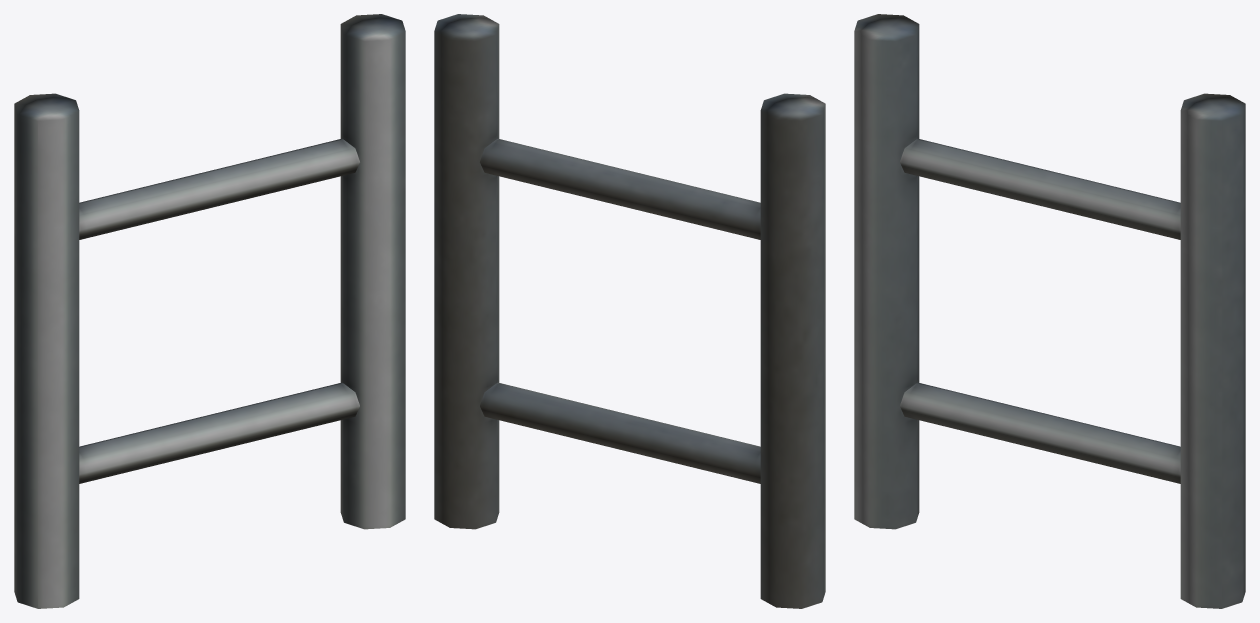
Rendered from LadderIron01.fbx.
3 renders of one model, left to right at view 1: azimuth 30°, elevation 25°; view 2: azimuth 150°, elevation 25°; view 3: azimuth 330°, elevation 25°, orthographic.
Visible parts, largest first — view 1: polySurface5, polySurface1, polySurface3, polySurface6; view 2: polySurface5, polySurface1, polySurface3, polySurface6; view 3: polySurface1, polySurface5, polySurface3, polySurface6.
Part boxes in pixels (x1,y1,x2,y2): polySurface5: (14, 93, 79, 608); polySurface1: (340, 14, 405, 529); polySurface3: (79, 138, 359, 239); polySurface6: (79, 382, 359, 483); polySurface5: (760, 93, 825, 608); polySurface1: (434, 14, 499, 529); polySurface3: (480, 138, 760, 239); polySurface6: (480, 382, 760, 483); polySurface1: (1180, 93, 1245, 608); polySurface5: (854, 14, 919, 529); polySurface3: (900, 138, 1180, 239); polySurface6: (900, 382, 1180, 483).
Bounding box in the file's own units: 0.8255 × 1 × 0.1255.
